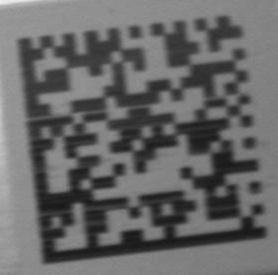datamatrix: (19, 15, 269, 265)
